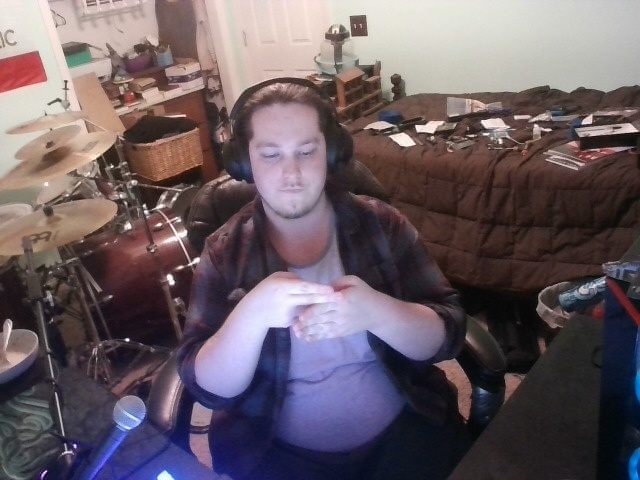name: (254, 260, 392, 369)
